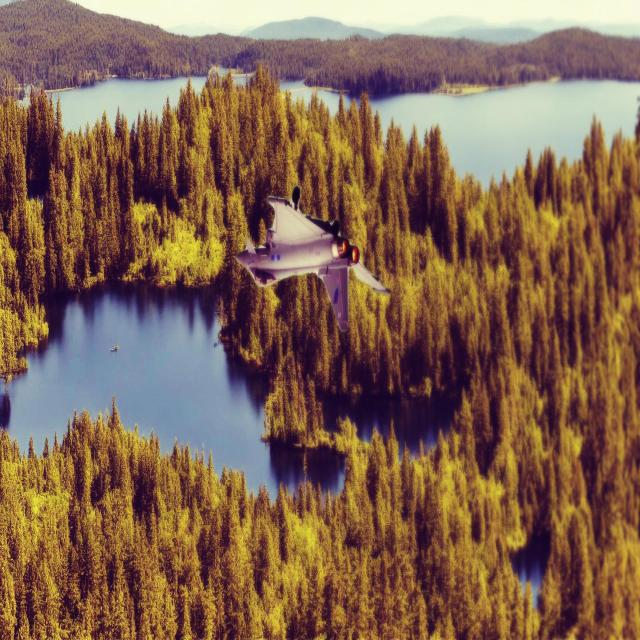airplane: (235, 184, 391, 332)
